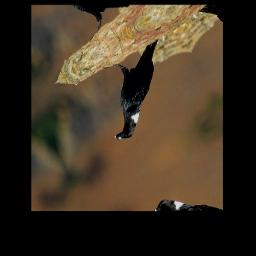Crow: (86, 32, 188, 147)
